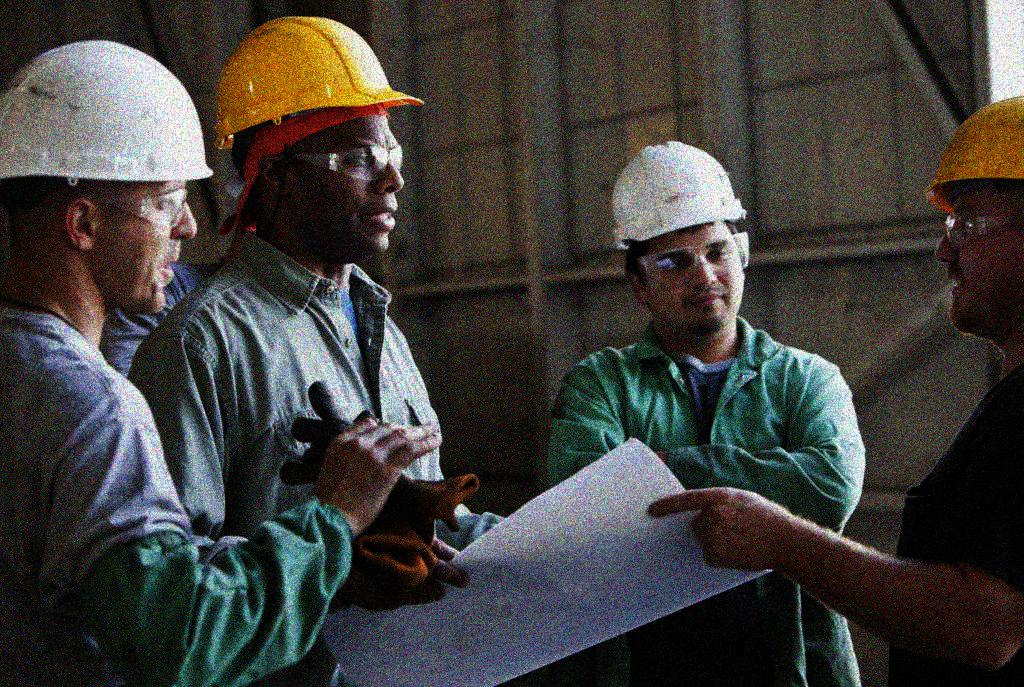helmet: (1, 38, 218, 315), (212, 11, 428, 255), (608, 134, 752, 334), (921, 90, 1024, 337)
